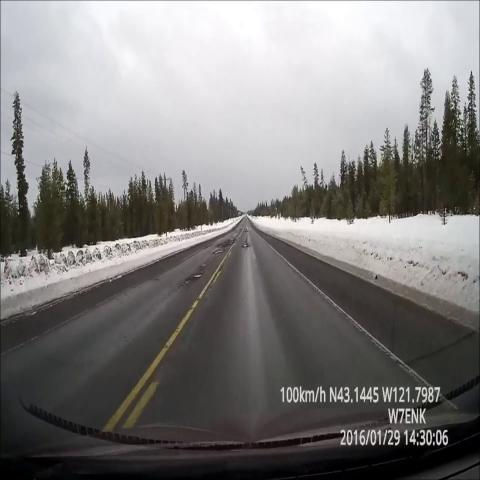pothole: (213, 228, 233, 256), (187, 262, 207, 284), (238, 237, 255, 254), (236, 225, 252, 243)
